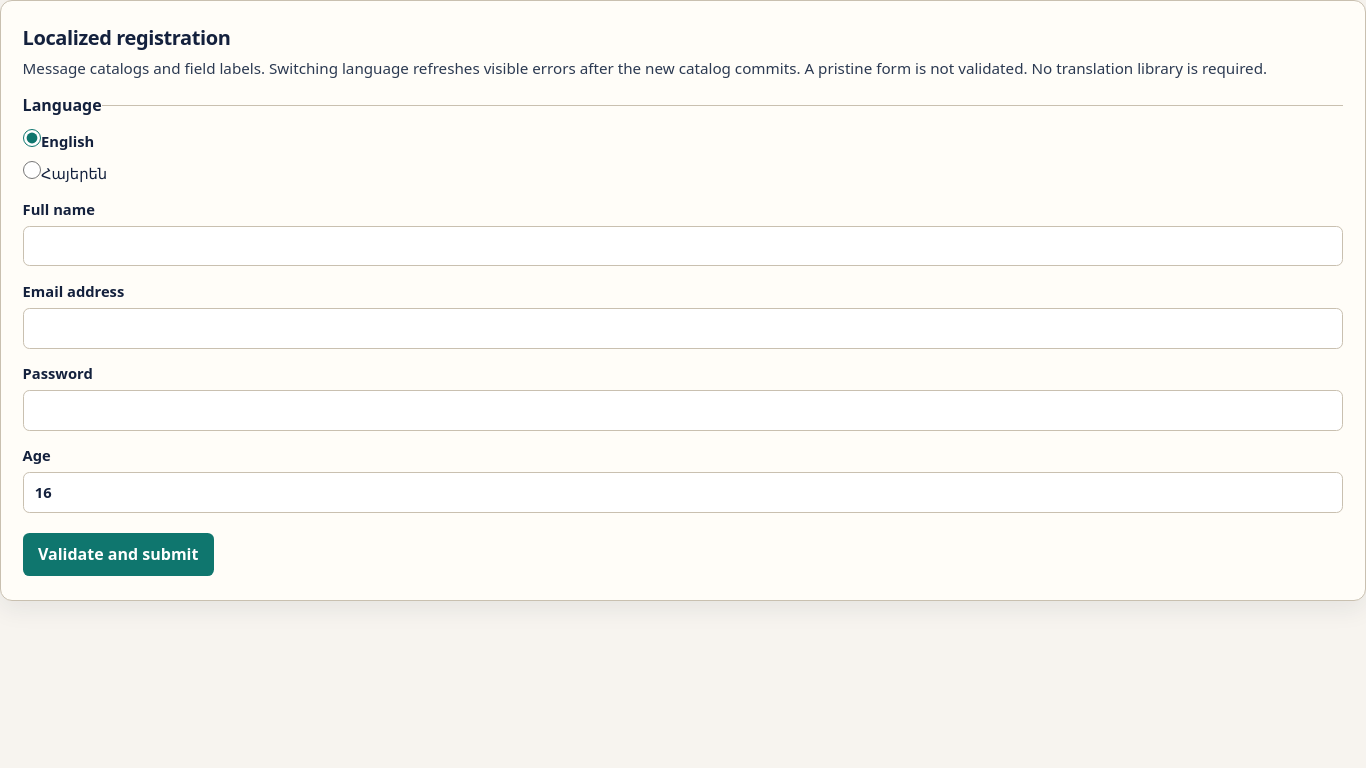
Test: LocalizedRegistrationForm › does not create errors when switching locale on a pristine form
Click the radio button labelled "Հայերեն" at (32, 170), box [23,160,41,179]
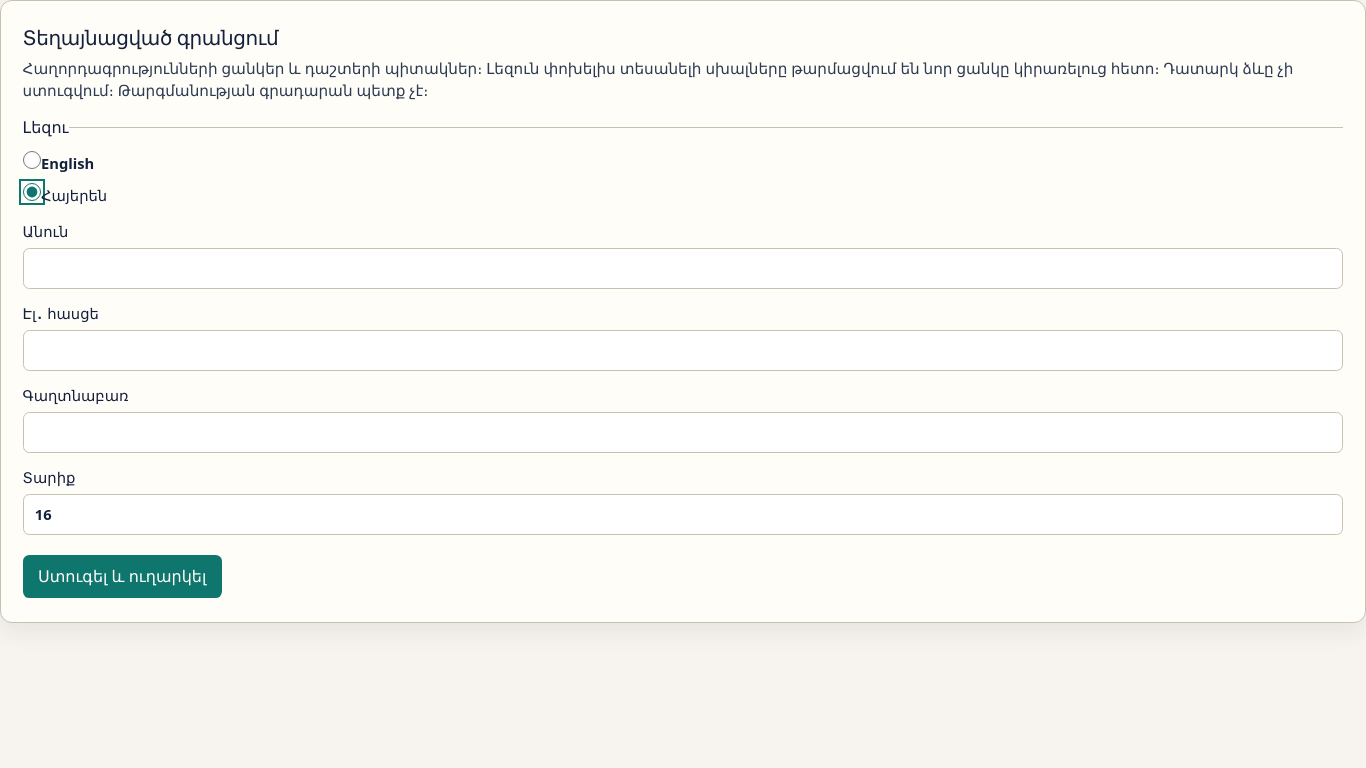
Result: the button "Ստուգել և ուղարկել" is shown at [23,555,222,598]
